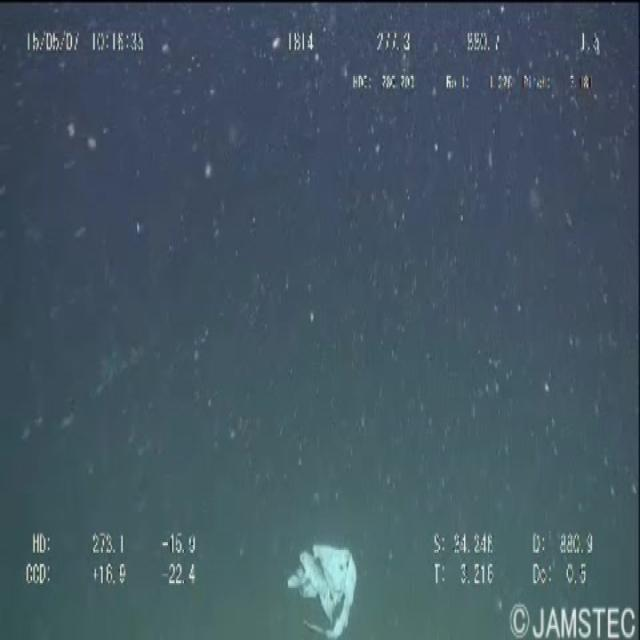Plastic: (278, 538, 360, 638)
